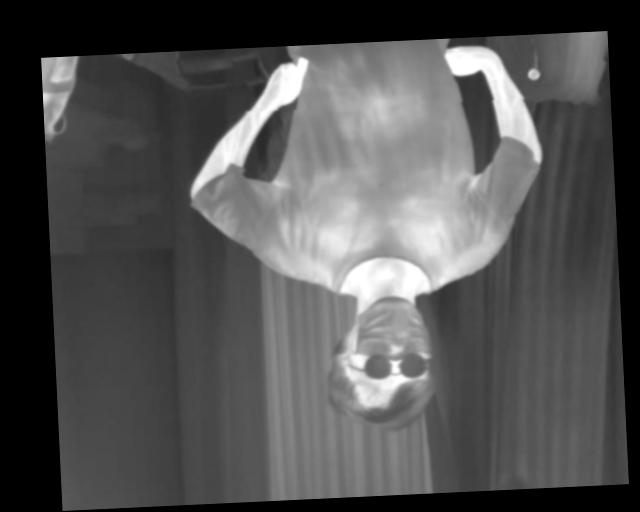face: (322, 292, 440, 434)
